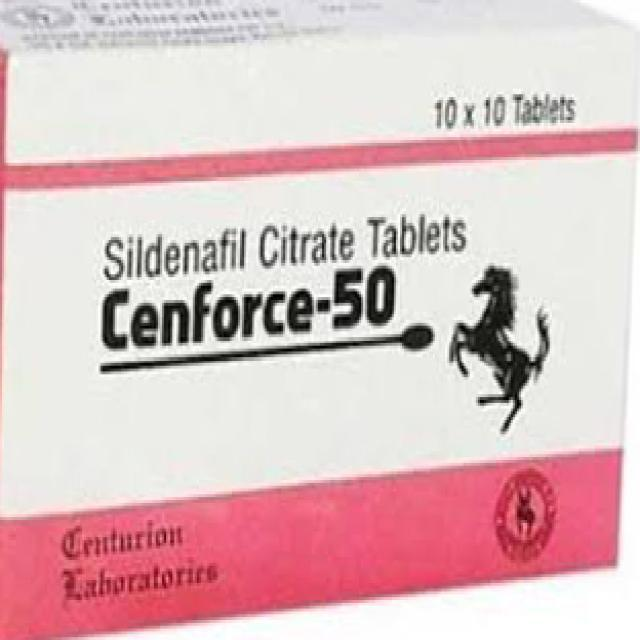drug-name: (99, 264, 399, 357)
